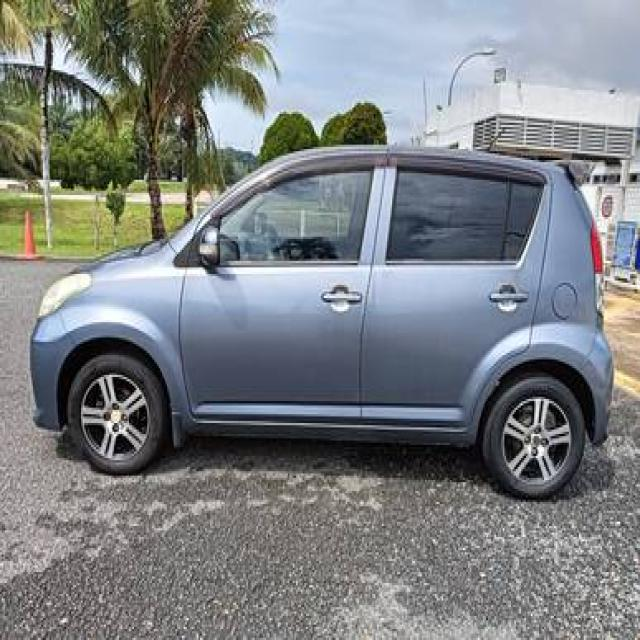PeroduaMyvi: (28, 140, 615, 500)
